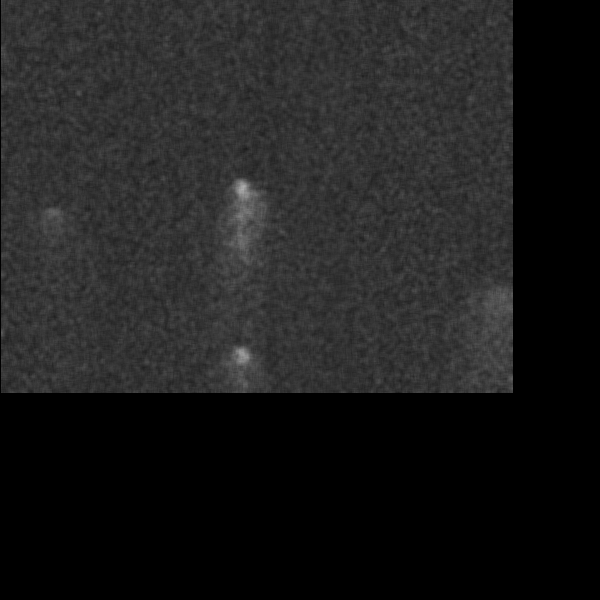spark: (20, 284, 87, 317)
